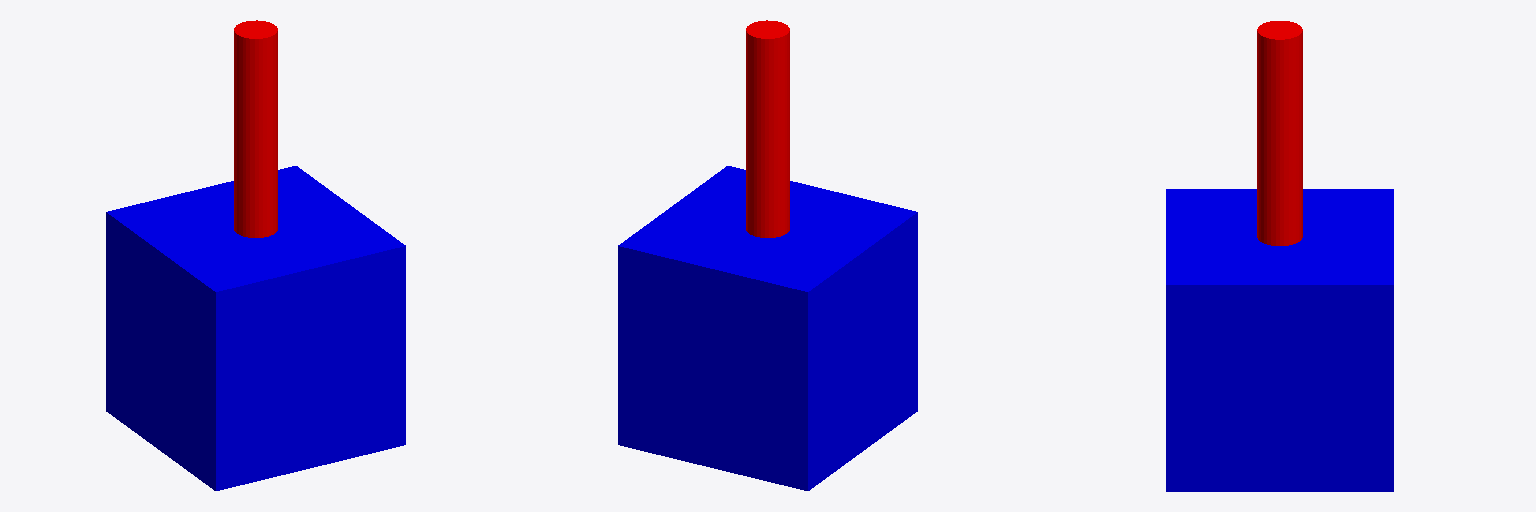
The robot description file, URDF, robot "simple_test_robot":
<?xml version="1.0"?>
<robot name="simple_test_robot">
  <link name="base_link">
    <visual>
      <geometry>
        <box size="1 1 1"/>
      </geometry>
      <material name="blue">
        <color rgba="0 0 1 1"/>
      </material>
    </visual>
  </link>
  
  <link name="arm_link">
    <visual>
      <geometry>
        <cylinder radius="0.1" length="2"/>
      </geometry>
      <material name="red">
        <color rgba="1 0 0 1"/>
      </material>
    </visual>
  </link>
  
  <joint name="arm_joint" type="revolute">
    <parent link="base_link"/>
    <child link="arm_link"/>
    <origin xyz="0 0 0.5" rpy="0 0 0"/>
    <axis xyz="0 0 1"/>
    <limit lower="-3.14" upper="3.14" effort="100" velocity="1"/>
  </joint>
</robot>

--- What the picture shows (computed from the rendered views, not written in the file) ---
3 views of the same robot in one strip: view 1: azimuth 30°, elevation 25°; view 2: azimuth 150°, elevation 25°; view 3: azimuth 270°, elevation 25° (orthographic).
Model simple_test_robot with 2 links and 1 joints (1 revolute), rooted at base_link, posed every joint at zero.
Links seen in each view (by area): view 1: base_link, arm_link; view 2: base_link, arm_link; view 3: base_link, arm_link.
Boxes of the visible links, x1,y1,x2,y2 form: base_link: [106, 166, 405, 490]; arm_link: [234, 20, 277, 237]; base_link: [618, 166, 917, 490]; arm_link: [746, 20, 789, 237]; base_link: [1166, 189, 1393, 491]; arm_link: [1257, 21, 1302, 245].
Size in the robot's own frame: 1 by 1 by 2 metres.
Geometry: primitives only (box / cylinder / sphere), no mesh files.